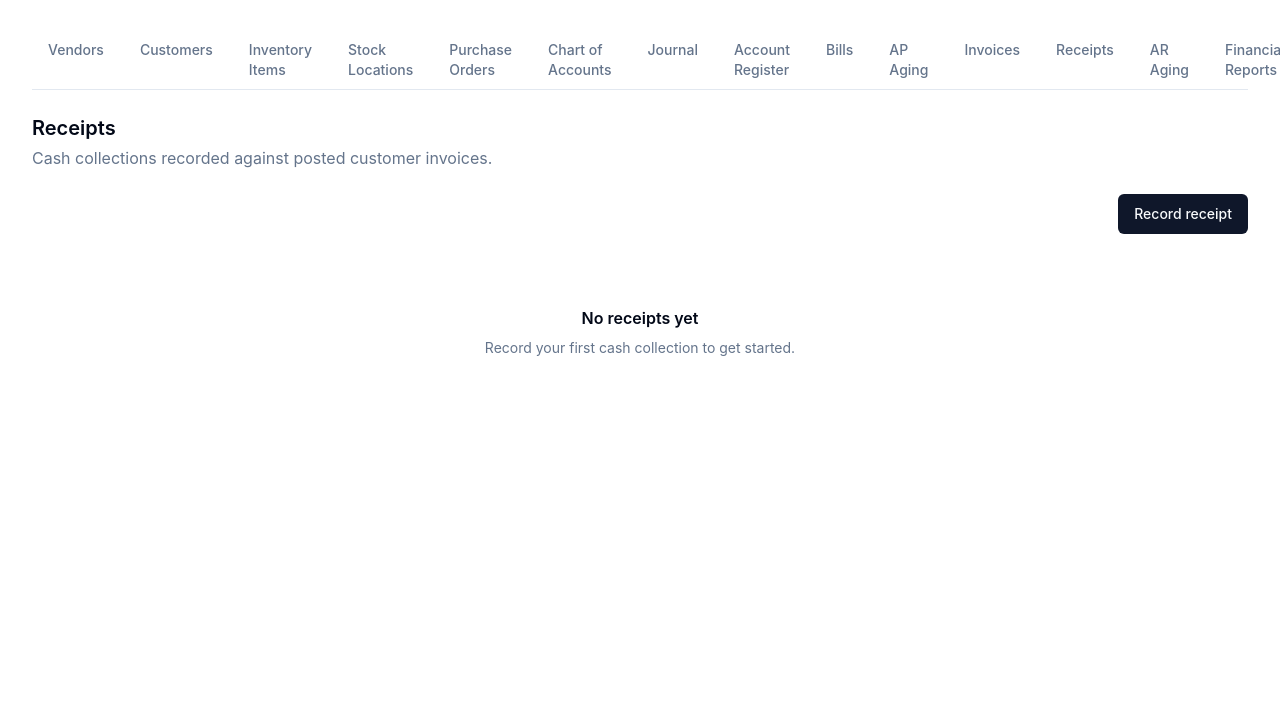
Test case: Receipts screen › opens the Record receipt dialog
Click the button "Record receipt".
click(1183, 214)  # box [1118,194,1248,234]
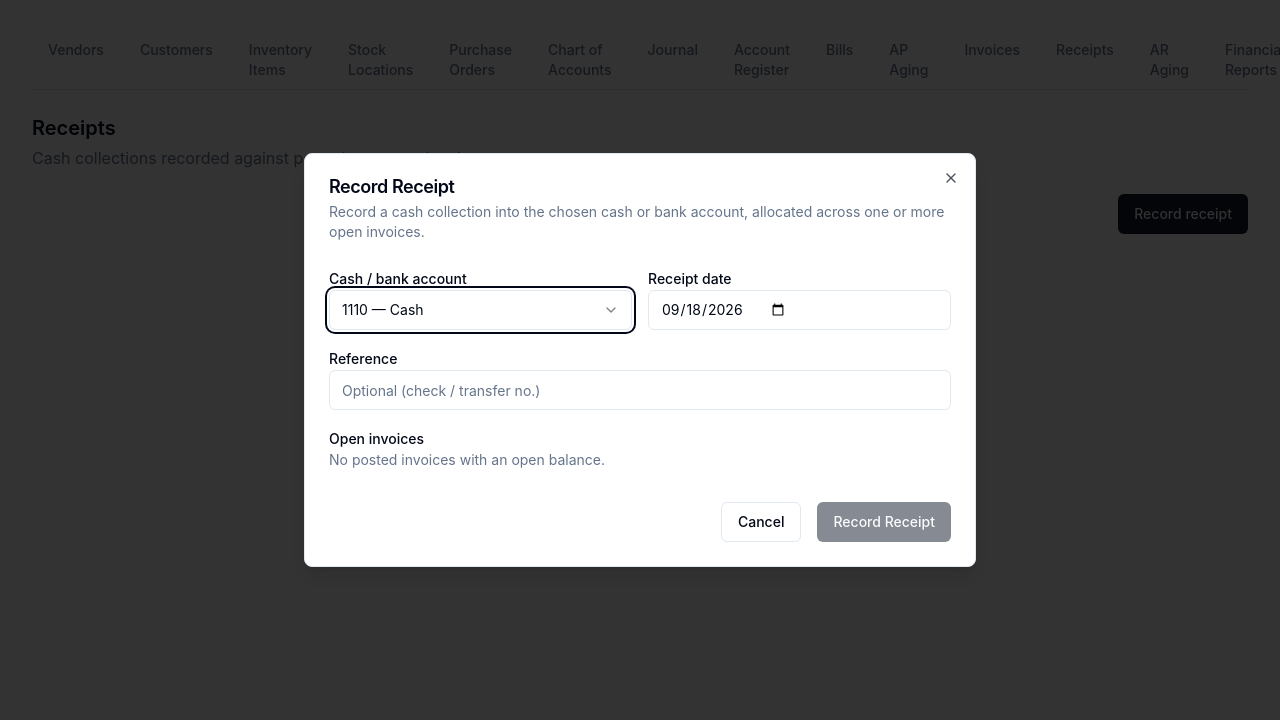
Check: the heading "Record Receipt" is shown, box [329,176,454,197]
